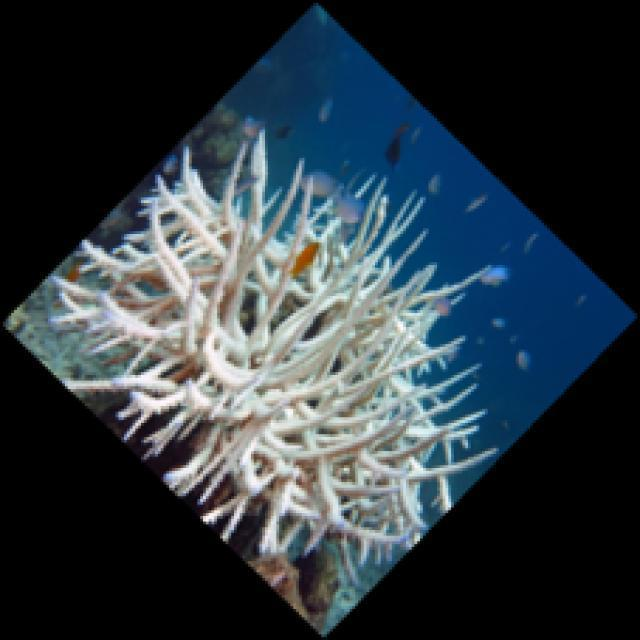Bleached: (54, 131, 498, 555)
